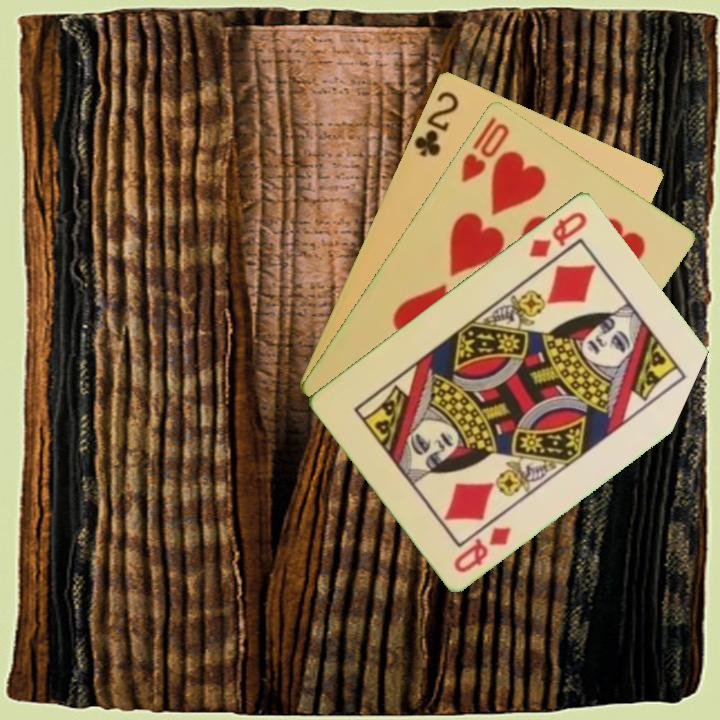10h: (457, 112, 512, 185)
2c: (410, 87, 462, 160)
Qd: (525, 207, 590, 260), (450, 522, 515, 575)
